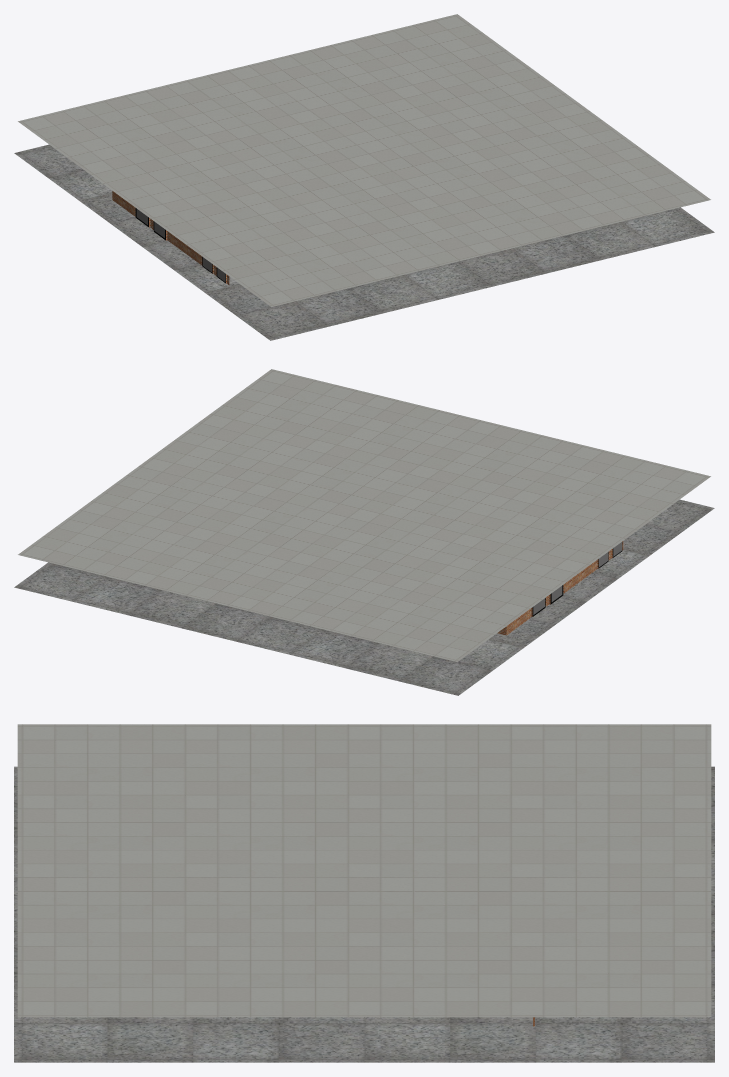
File: pasilloA2.fbx
The picture shows the model from 3 angles, top to bottom: view 1: azimuth 30°, elevation 25°; view 2: azimuth 150°, elevation 25°; view 3: azimuth 270°, elevation 25°; orthographic projection. The views are drawn at different scales.
Parts seen in each view (by area): view 1: Plane; view 2: Plane; view 3: Plane.
Boxes of the visible parts, box(x1,y1,x2,y2) form: Plane: box(14, 14, 714, 340); Plane: box(14, 369, 714, 695); Plane: box(14, 724, 714, 1062).
Bounding box in the file's own units: 5956 × 412 × 5956.
6 materials, 4 textured.
